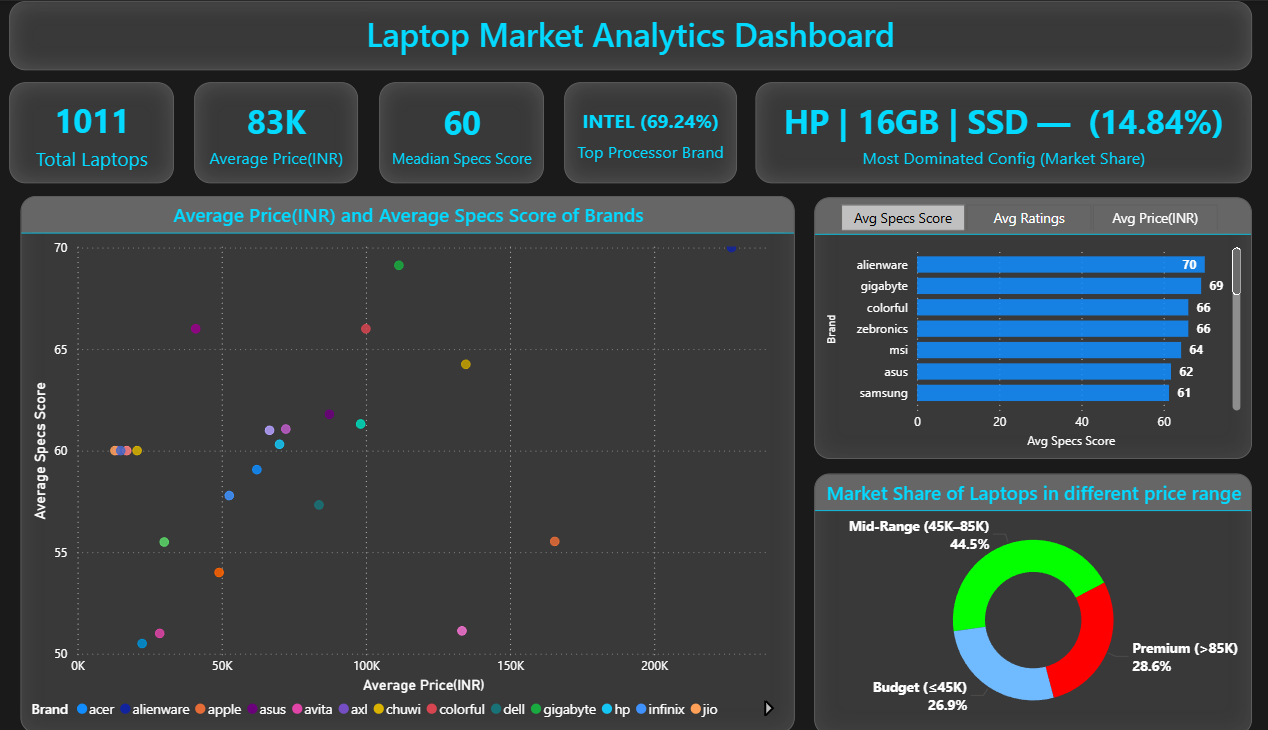

The page's visual inventory and layout, read from the dashboard file:
{"tool":"powerbi","page":{"name":"Page 1","canvas":[1280,720],"ordinal":0},"visuals":[{"type":"textbox","box":[30.7,0,1220,67.6],"z":0},{"type":"card","fields":{"Values":["Sheet1.Total Laptops"]},"box":[30.7,80.1,162,99.4],"z":0,"group":"g1"},{"type":"card","fields":{"Values":["Sheet1.Average Price"]},"box":[212.3,80.1,160.7,99.4],"z":1000,"group":"g1"},{"type":"donutChart","title":"Market Share of Laptops in different price range","fields":{"Y":["CountNonNull(Sheet1.PriceRange)"],"Category":["Sheet1.PriceRange"]},"box":[820.9,463.8,429.5,256.4],"z":1000},{"type":"group","id":"g1","title":"Group 2","box":[30.7,80.1,1219.6,99.4],"z":3000},{"type":"card","fields":{"Values":["Sheet1.Meadian Specs Score"]},"box":[393.9,80.1,162,99.4],"z":3000,"group":"g1"},{"type":"card","fields":{"Values":["Sheet1.MostConfig_Display"]},"box":[763.2,80.1,487.1,99.4],"z":4000,"group":"g1"},{"type":"card","fields":{"Values":["Sheet1.Top Processor"]},"box":[575.5,80.1,169.3,99.4],"z":6000,"group":"g1"},{"type":"barChart","title":"   ","fields":{"Y":["Sheet1.Average Specs Score"],"Category":["Sheet1.Brand"]},"box":[820.3,192.1,429.5,256.4],"z":7000,"group":"g2"},{"type":"slicer","fields":{"Values":["Metric Parameters.Metric Parameters"]},"box":[820.3,192.1,419.6,31.9],"z":8000,"group":"g2"},{"type":"group","id":"g2","title":"Group 1","box":[820.3,192.1,429.5,256.4],"z":8001},{"type":"scatterChart","fields":{"Category":["Sheet1.Brand"],"Series":["Sheet1.Brand"],"X":["Sheet1.Average Price(INR)"],"Y":["Sheet1.Average Specs Score"]},"box":[41.8,191.9,760,527.6],"z":8002}]}

Visuals, with their boxes in screenshot pixels (x1, y1, x2, y2), scaled from the page's 1280x720 canvas onto the 1268x730 screenshot:
textbox: (30,0,1239,69)
card - Sheet1.Total Laptops: (30,81,191,182)
card - Sheet1.Average Price: (210,81,370,182)
"Market Share of Laptops in different price range" donutChart: (813,470,1239,729)
"Group 2" group: (30,81,1239,182)
card - Sheet1.Meadian Specs Score: (390,81,551,182)
card - Sheet1.MostConfig_Display: (756,81,1239,182)
card - Sheet1.Top Processor: (570,81,738,182)
"   " barChart: (813,195,1238,455)
slicer - Metric Parameters.Metric Parameters: (813,195,1228,227)
"Group 1" group: (813,195,1238,455)
scatterChart - Sheet1.Brand x Sheet1.Brand: (41,195,794,729)
